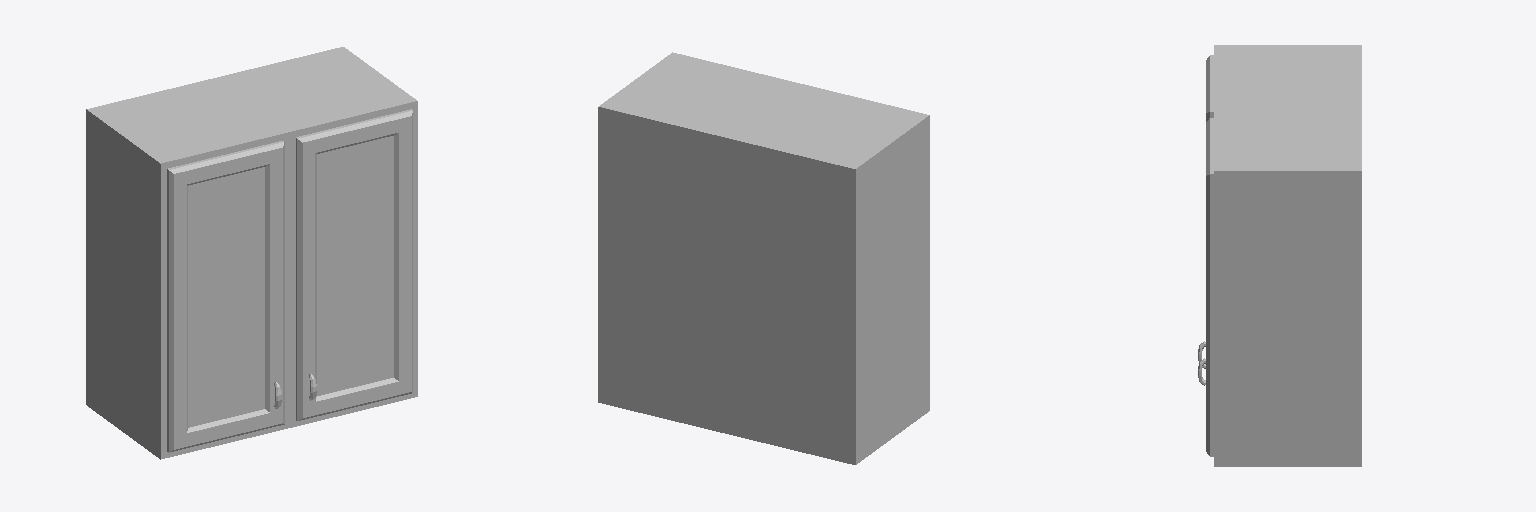
The model's file is Structure_Kitchen_Cabinet_Wall_Full.obj.
3 views of the same model, side by side, from view 1: azimuth 30°, elevation 25°; view 2: azimuth 150°, elevation 25°; view 3: azimuth 270°, elevation 25° (orthographic).
Visible parts, largest first — view 1: object2, object3, object1; view 2: object2; view 3: object2, object1.
Boxes of the visible parts, x1=… form: object2: x1=86, y1=47, x2=417, y2=459; object3: x1=167, y1=141, x2=284, y2=452; object1: x1=296, y1=109, x2=412, y2=420; object2: x1=598, y1=52, x2=929, y2=464; object2: x1=1214, y1=45, x2=1361, y2=466; object1: x1=1206, y1=118, x2=1213, y2=456.
Size of the model in its own units: 1 by 1.1 by 0.5531.